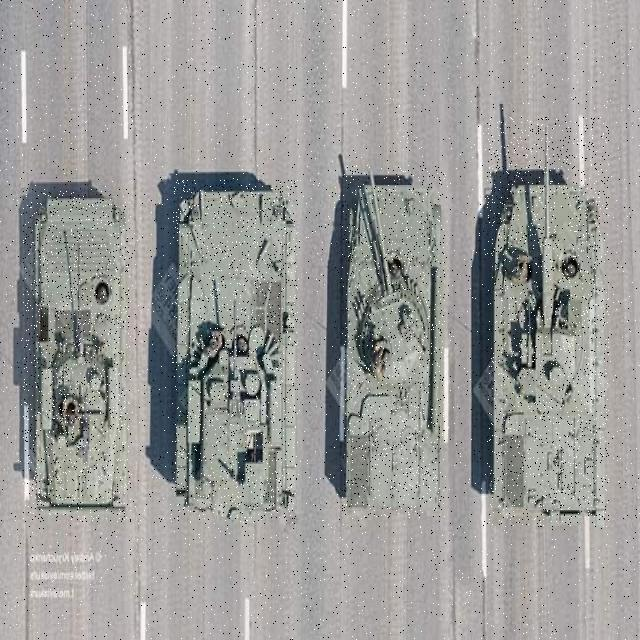MIL_MBT: (487, 117, 609, 527), (172, 180, 298, 524), (342, 165, 445, 518), (23, 189, 131, 522)
